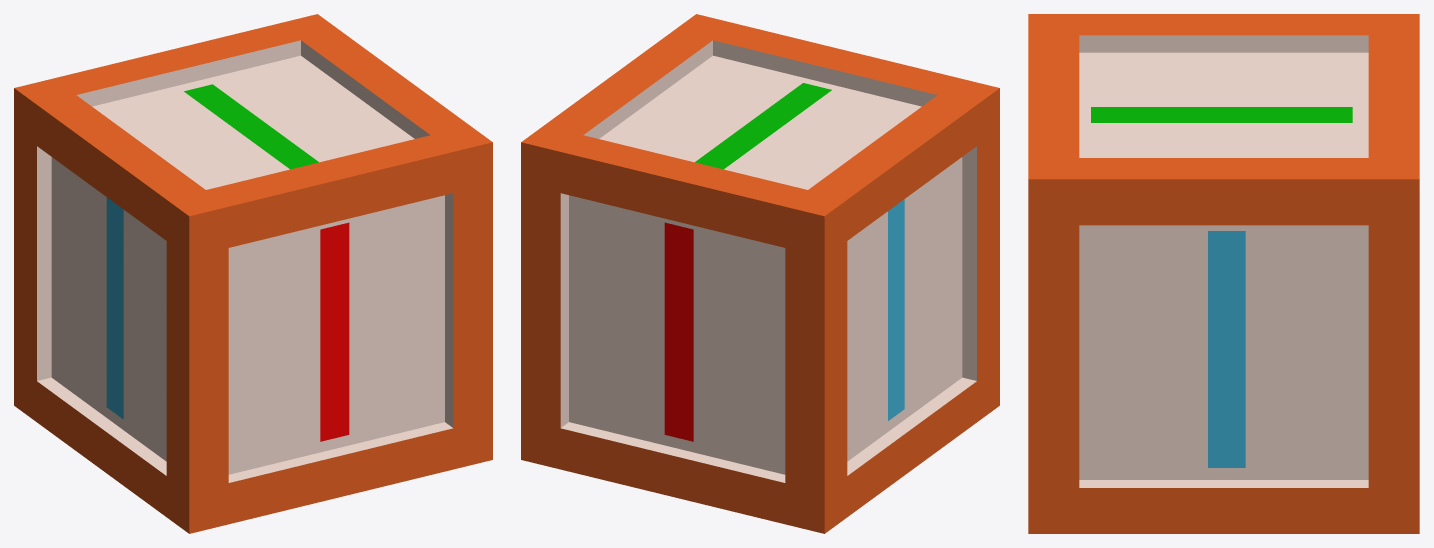
The model's file is Prop_KidsCube_I.fbx.
3 views of the same model, side by side, from view 1: azimuth 30°, elevation 25°; view 2: azimuth 150°, elevation 25°; view 3: azimuth 270°, elevation 25° (orthographic). The views are drawn at different scales.
Visible parts, largest first — view 1: Prop_KidsCube_I; view 2: Prop_KidsCube_I; view 3: Prop_KidsCube_I.
Part boxes in pixels (box(x1,y1,x2,y2)): Prop_KidsCube_I: box(14, 14, 492, 533); Prop_KidsCube_I: box(521, 14, 999, 533); Prop_KidsCube_I: box(1028, 14, 1419, 533).
Bounding box in the file's own units: 20.93 × 20.93 × 20.93.
